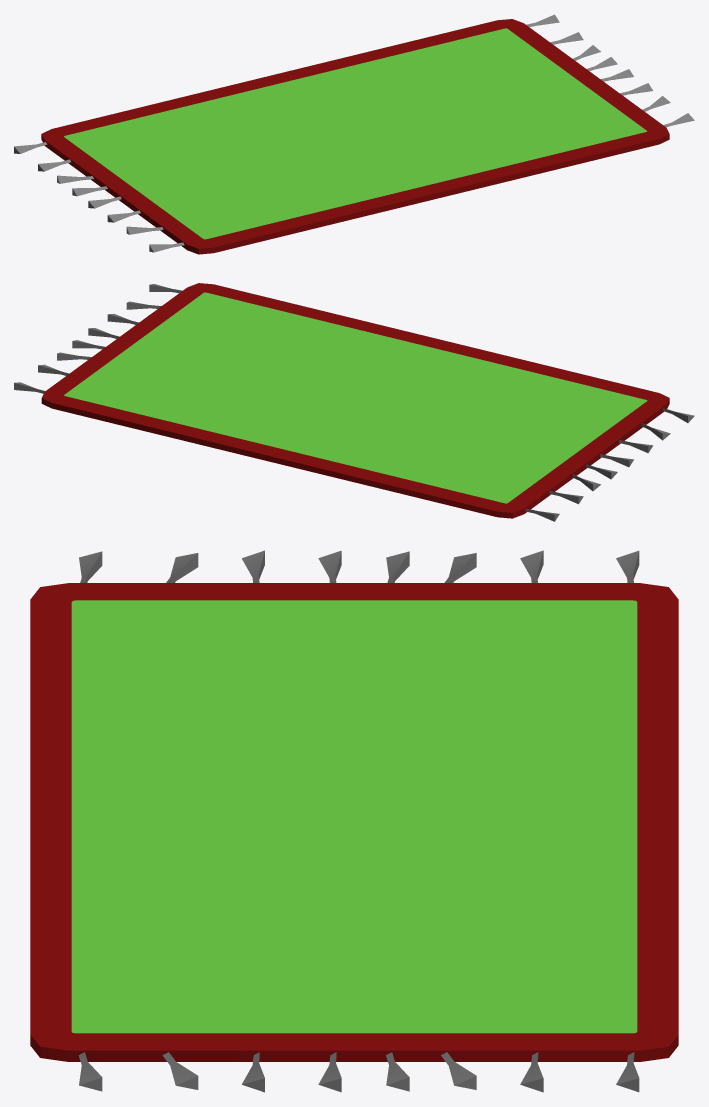
File: SM_carpet_medium.fbx
3 views of the same model, one above another, from view 1: azimuth 30°, elevation 25°; view 2: azimuth 150°, elevation 25°; view 3: azimuth 270°, elevation 25° (orthographic). The views are drawn at different scales.
Visible parts, largest first — view 1: Object006; view 2: Object006; view 3: Object006.
Part boxes in pixels (bbox=[...]): Object006: bbox=[14, 14, 694, 254]; Object006: bbox=[14, 283, 694, 521]; Object006: bbox=[30, 550, 678, 1092].
Bounding box in the file's own units: 128 × 66.46 × 1.62.
